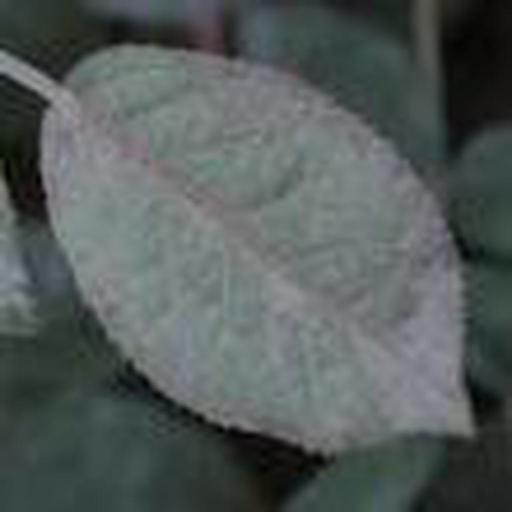powdery_mildew: (0, 46, 472, 454)
